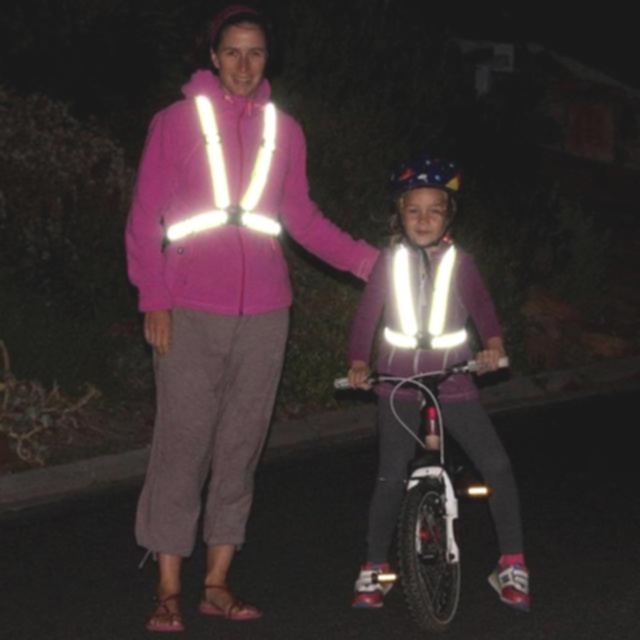Con_Chaleco: (162, 87, 298, 269), (377, 243, 479, 362)
